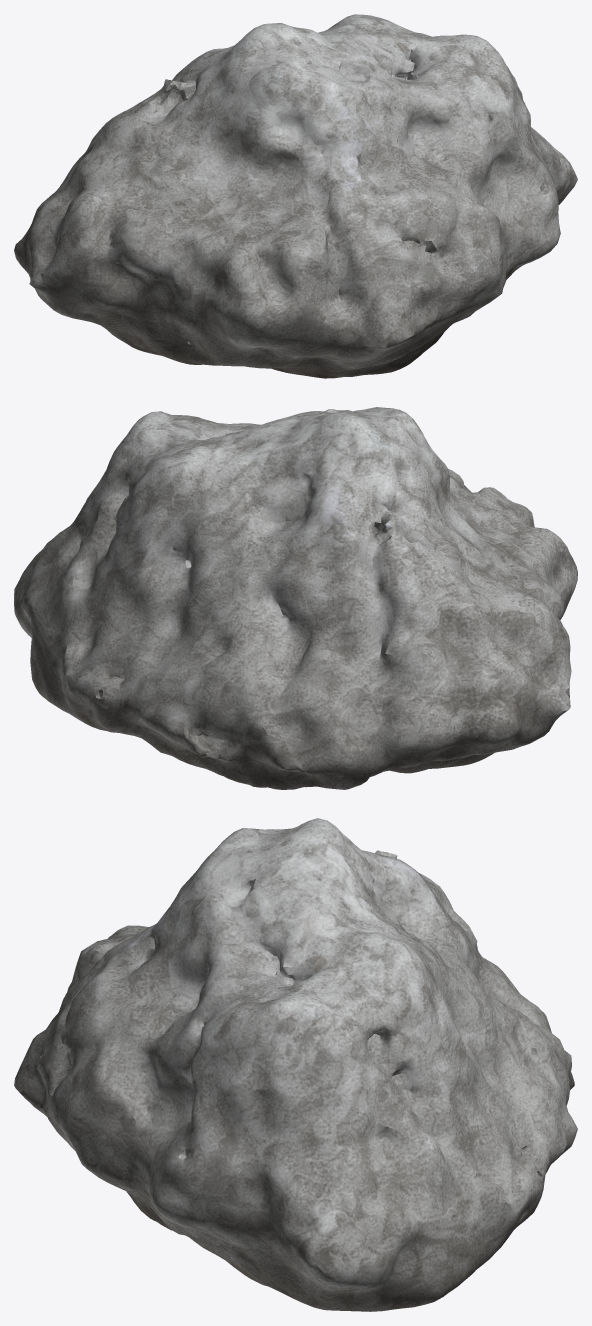
3 renders of one model, top to bottom at view 1: azimuth 30°, elevation 25°; view 2: azimuth 150°, elevation 25°; view 3: azimuth 270°, elevation 25°, orthographic. The views are drawn at different scales.
Visible parts, largest first — view 1: Object_2; view 2: Object_2; view 3: Object_2.
Boxes of the visible parts, x1,y1,x2,y2 form: Object_2: (14, 14, 577, 378); Object_2: (14, 407, 577, 789); Object_2: (14, 818, 577, 1311).
Size of the model in its own units: 0.6283 by 0.3596 by 0.4899.
1 material, 1 textured.
